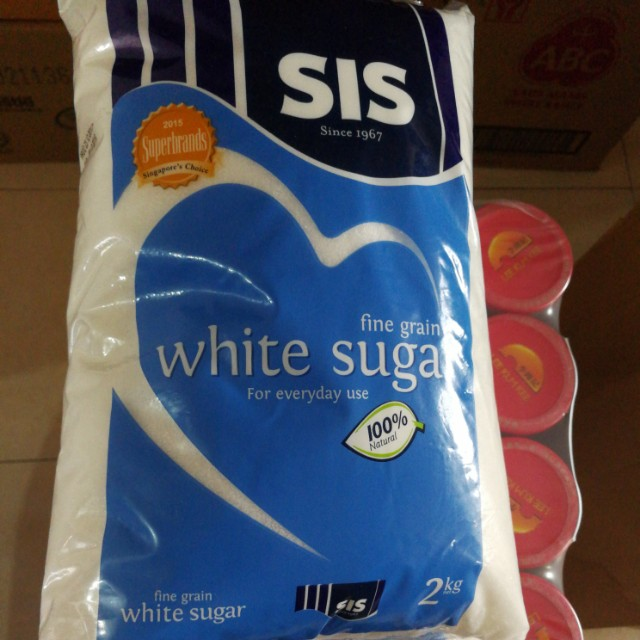sis white sugar: (56, 1, 474, 628)
